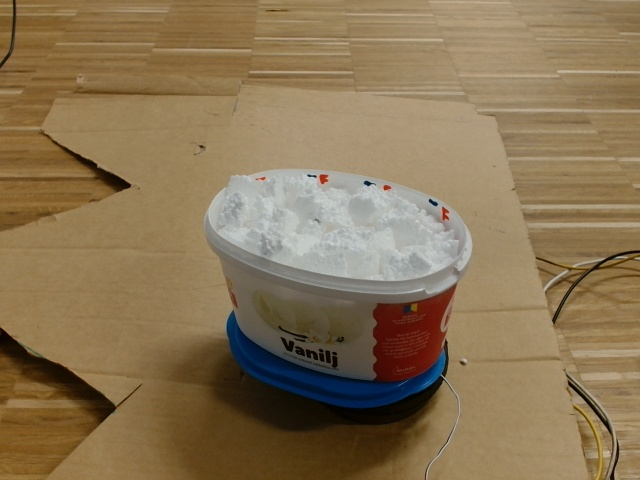Big_full: (203, 166, 476, 301)
